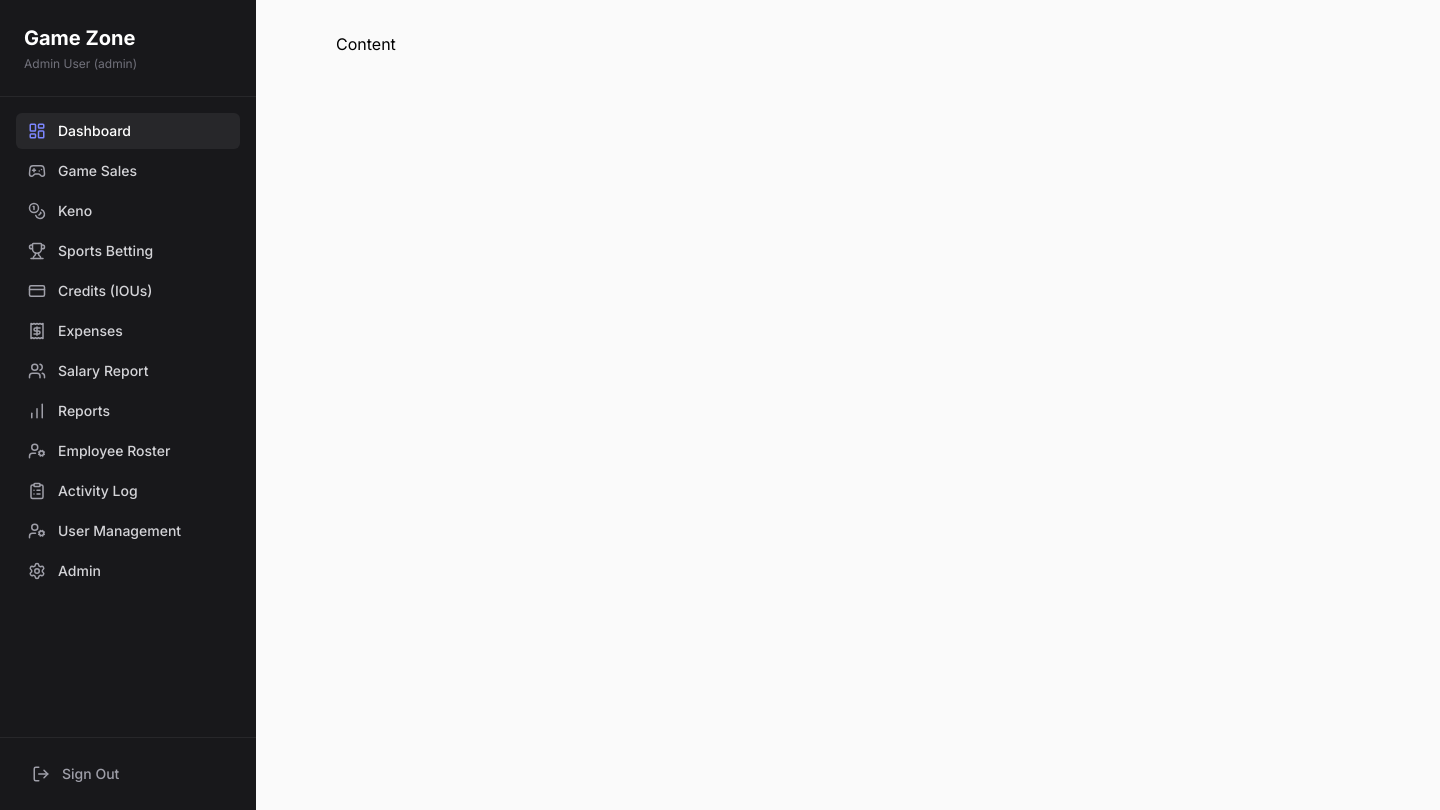
Test: Layout › does not sign out when Cancel is clicked in the sign-out dialog
Click the button "Sign Out".
click(128, 774)  # box [16,754,240,794]
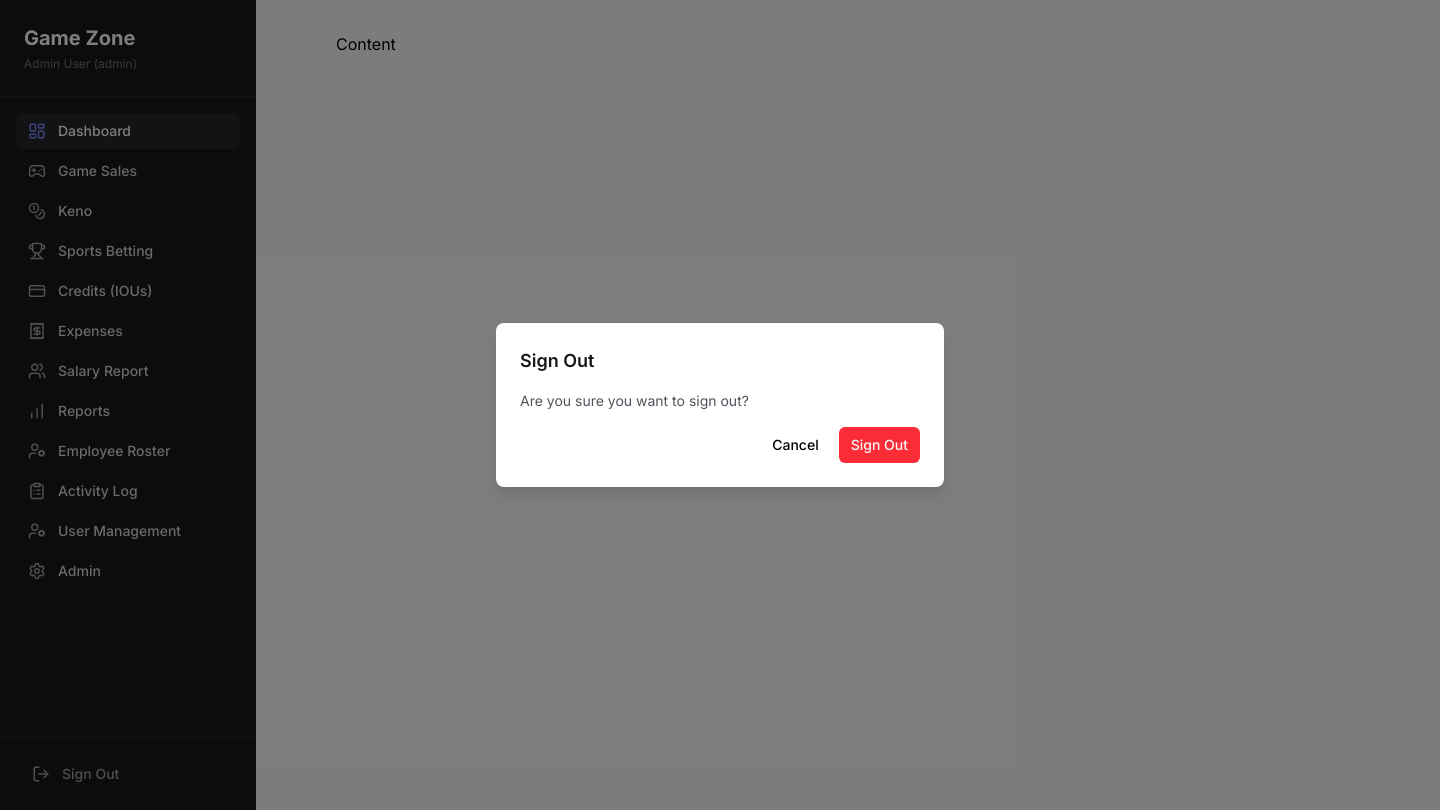
Expected: the text "Are you sure you want to sign out?" is shown, [520,392,749,409]
Click the button "Cancel".
click(795, 445)  # box [760,427,831,463]
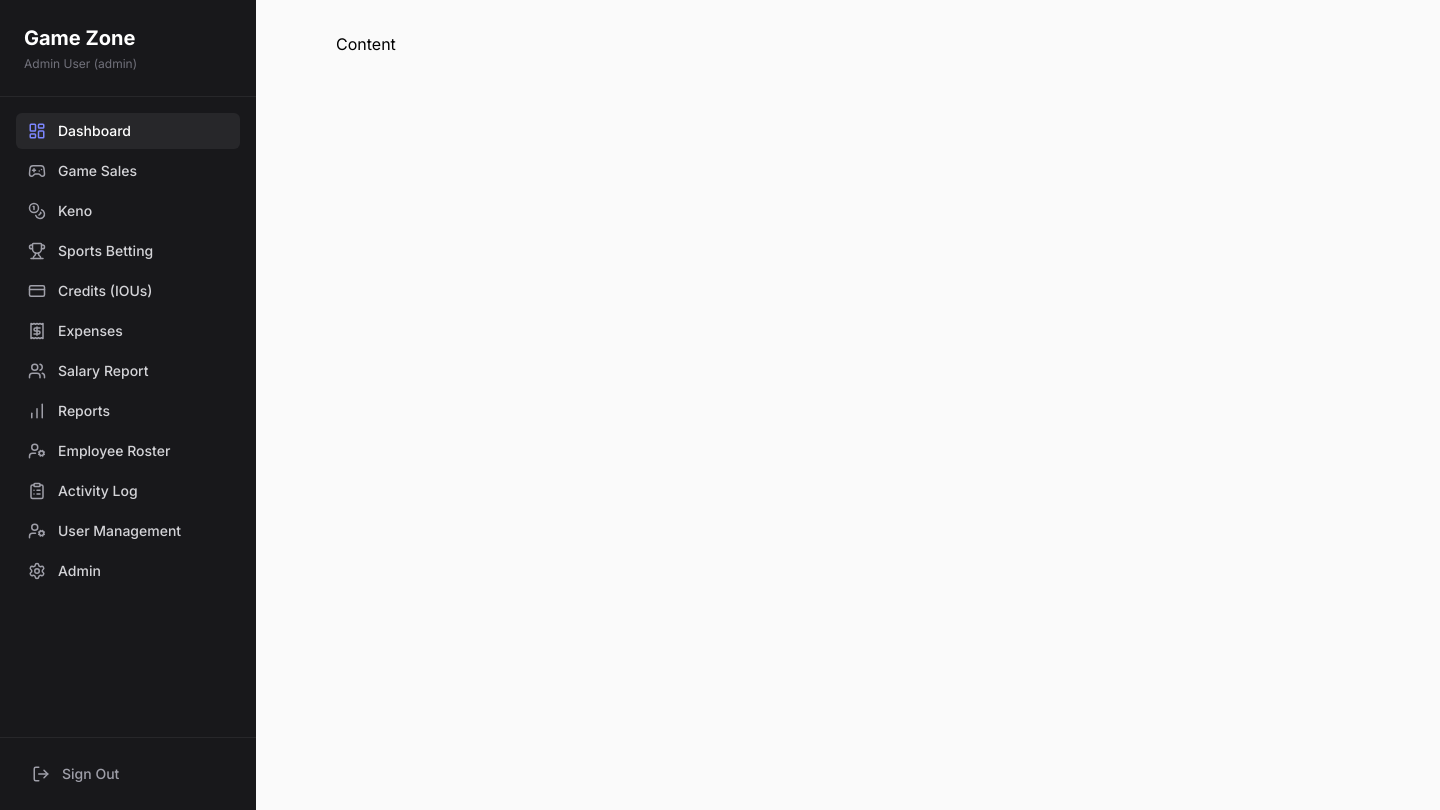
Expected: the text "Are you sure you want to sign out?" is gone
